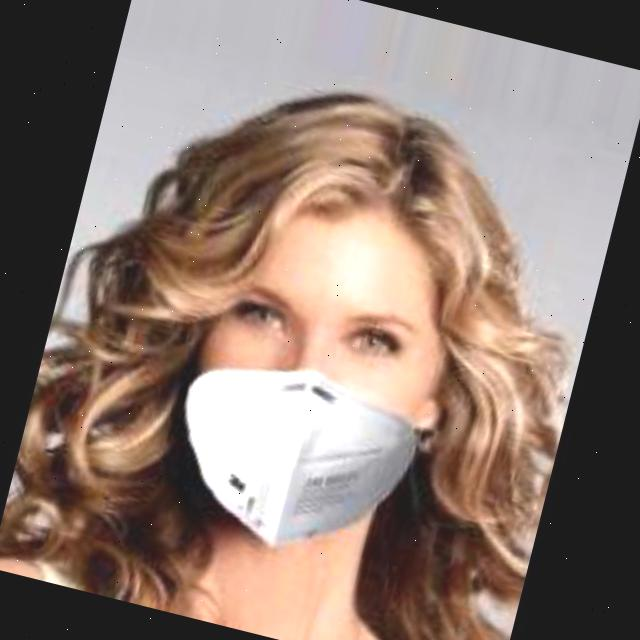suspicion: (115, 144, 539, 590)
